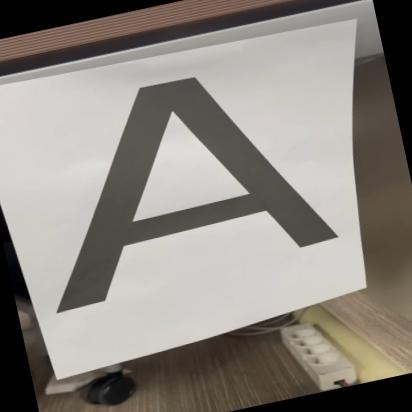seat: (0, 31, 364, 334)
